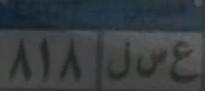1: (33, 32, 55, 81)
8: (57, 36, 82, 81), (10, 39, 33, 83)
س: (134, 46, 169, 81)
ع: (168, 38, 196, 85)
ل: (106, 36, 134, 81)
